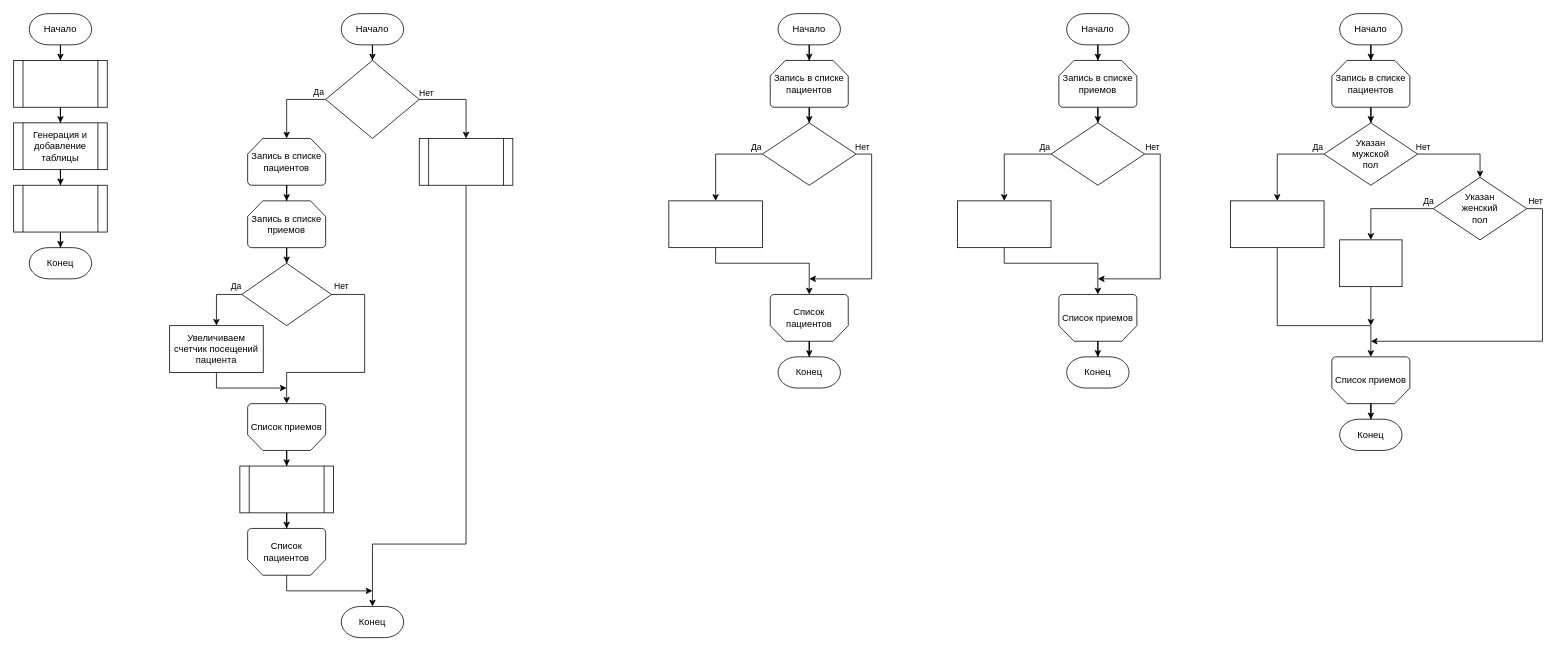
This 1562x651 diagram has some shape labels left out. The centre of each missing label's shape, as x and y in pixels:
"Добавить запись о пациенте в отчет" belongs at pixel 286 489.
"Добавить запись об отсутствии пациентов в отчет" belongs at pixel 465 161.
"Добавление заголовка" belongs at pixel 60 83.
"Есть хотя бы один пациент" belongs at pixel 372 99.
"Прием связан с пациентом" belongs at pixel 286 294.
"Сохранение документа" belongs at pixel 60 208.
"Увеличиваем кол-во пациентов по году рождения" belongs at pixel 715 224.
"Увеличиваем кол-во приемов по дате" belongs at pixel 1004 224.
"Увеличиваем счетчик женщин" belongs at pixel 1370 263.
"Увеличиваем счетчик мужчин" belongs at pixel 1277 224.
"Указана дата приема" belongs at pixel 1097 153.
"Указана дата рождения" belongs at pixel 809 153.
